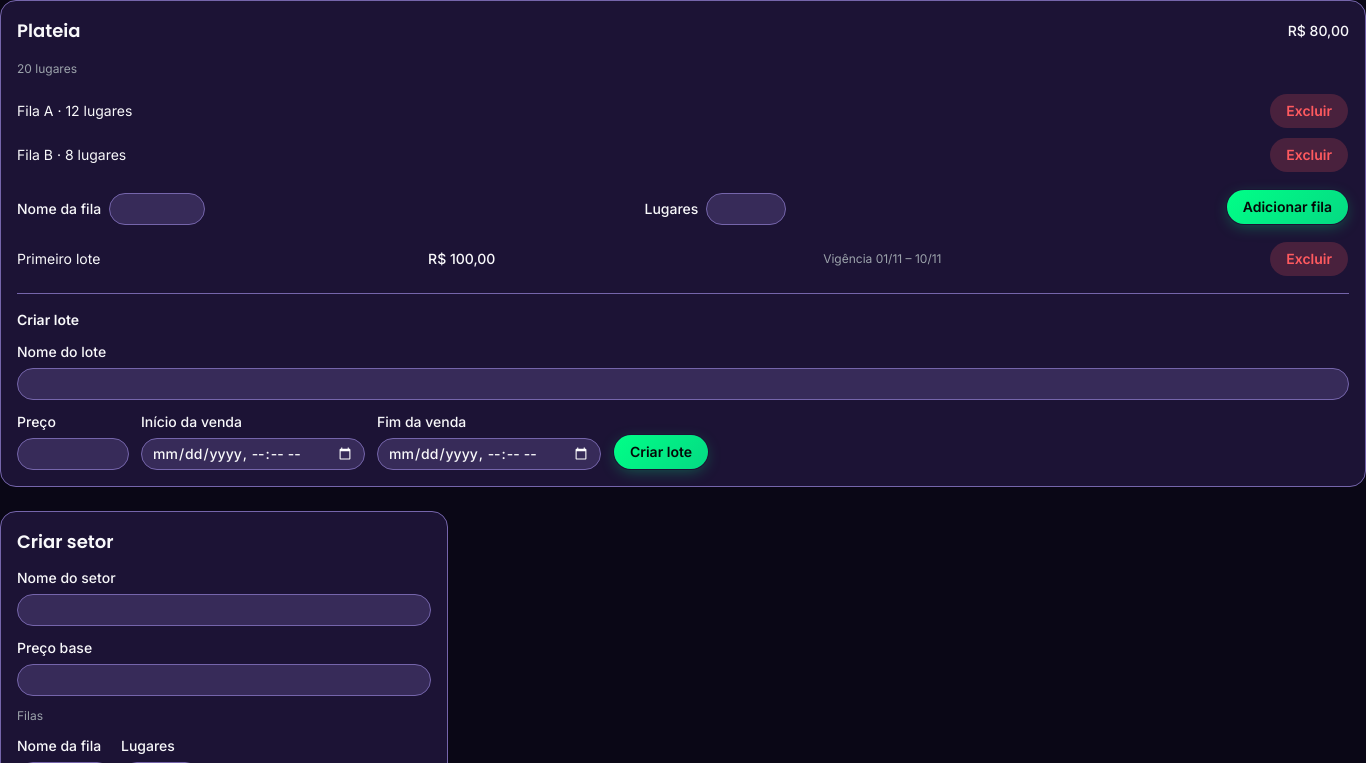
Test: OrganizerSectorEditor › mostra ingressos vendidos ao tentar excluir fila com pedidos
This screenshot has width=1366, height=763.
Click the button with aria-label "Excluir fila A" at (1309, 111), box [1269,93,1349,129]
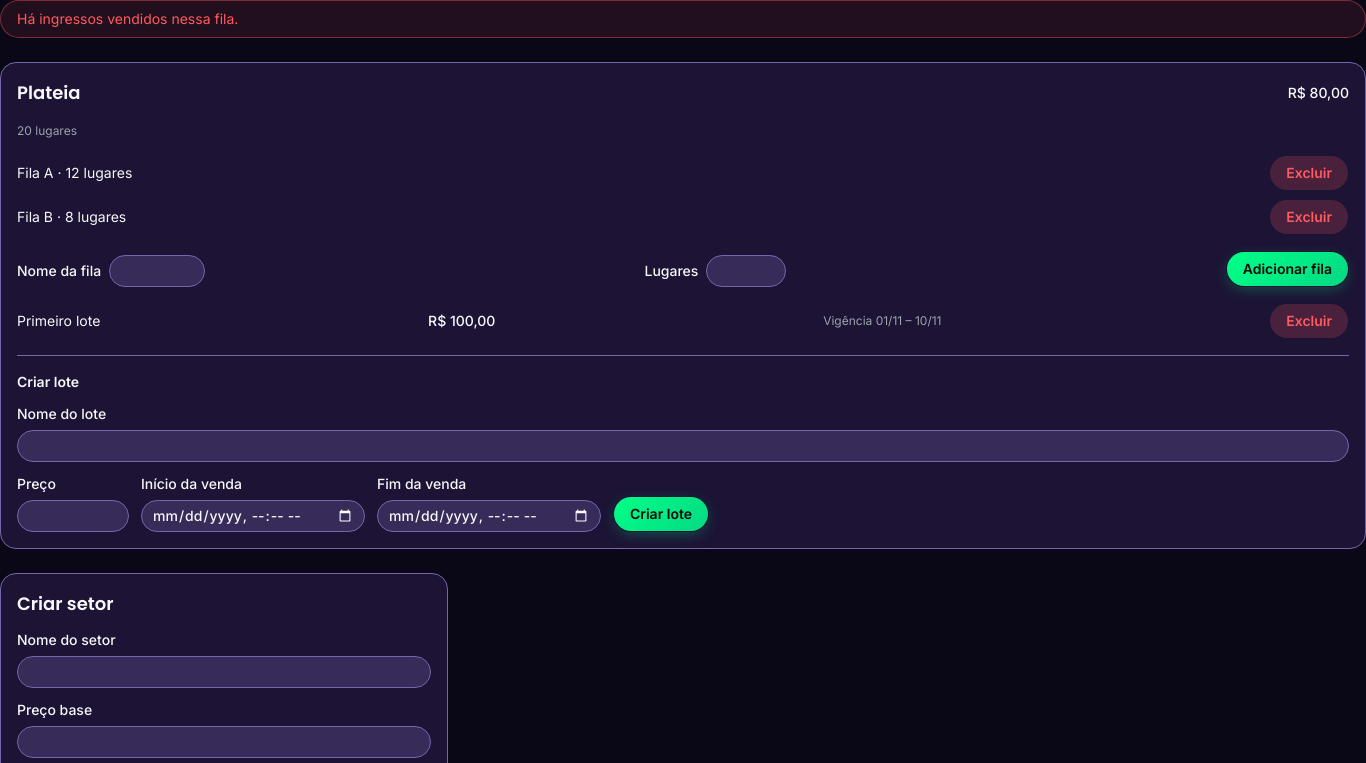
Result: the text "Há ingressos vendidos nessa fila." is shown at [0,0,1365,38]
